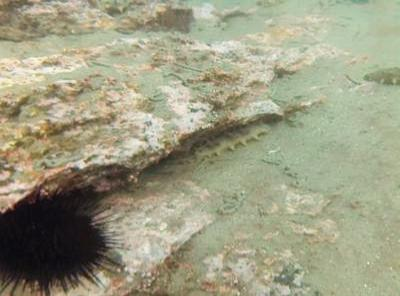urchin: (0, 190, 120, 289)
